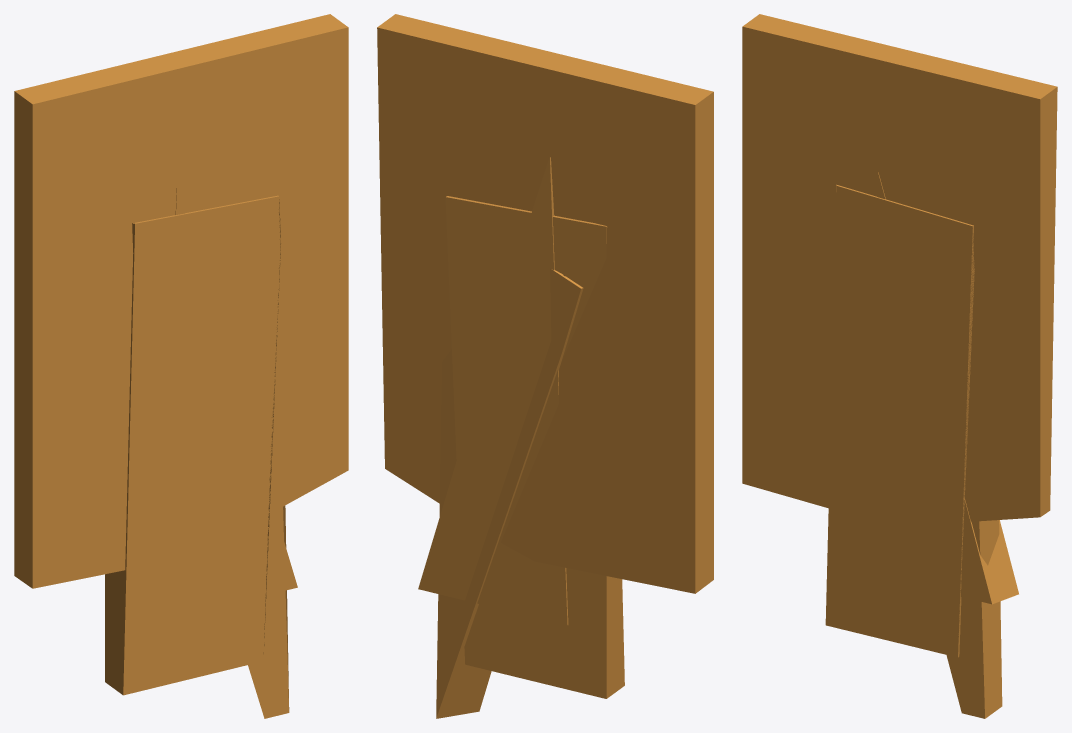
Rendered from brokenselffbx.fbx.
3 renders of one model, left to right at view 1: azimuth 30°, elevation 25°; view 2: azimuth 150°, elevation 25°; view 3: azimuth 330°, elevation 25°, orthographic. The views are drawn at different scales.
Parts seen in each view (by area): view 1: group1241120887_cell.003, group1241120887_cell, group1241120887_cell.001, group1241120887_cell.002; view 2: group1241120887_cell.003, group1241120887_cell, group1241120887_cell.002, group1241120887_cell.001; view 3: group1241120887_cell.003, group1241120887_cell, group1241120887_cell.001, group1241120887_cell.002.
Boxes of the visible parts, x1,y1,x2,y2 form: group1241120887_cell.003: [14, 14, 348, 588]; group1241120887_cell: [105, 195, 280, 695]; group1241120887_cell.001: [248, 505, 289, 718]; group1241120887_cell.002: [175, 188, 297, 595]; group1241120887_cell.003: [377, 14, 713, 593]; group1241120887_cell: [445, 196, 624, 698]; group1241120887_cell.002: [418, 157, 568, 625]; group1241120887_cell.001: [436, 268, 583, 718]; group1241120887_cell.003: [742, 14, 1057, 521]; group1241120887_cell: [825, 184, 974, 657]; group1241120887_cell.001: [946, 520, 1002, 718]; group1241120887_cell.002: [877, 172, 1018, 604].
Bounding box in the file's own units: 10 × 20.31 × 1.08.
